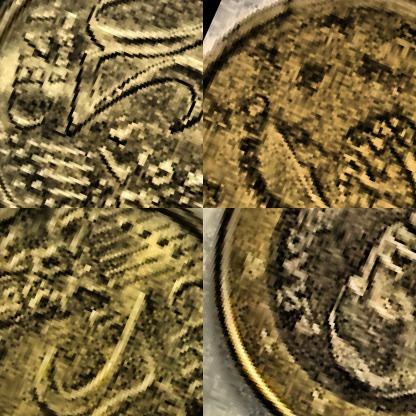coin: (203, 0, 415, 207), (203, 208, 415, 415), (0, 0, 202, 207), (0, 208, 202, 415)
